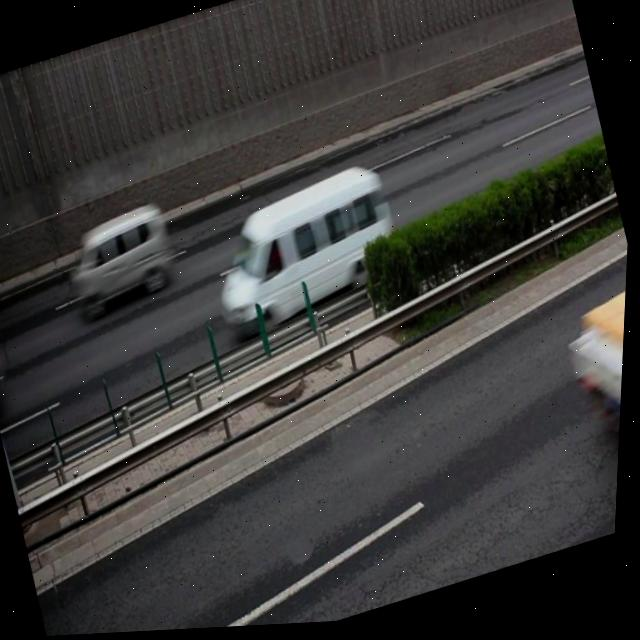bus: (551, 288, 629, 473)
truck: (199, 163, 410, 345), (61, 199, 185, 325)
